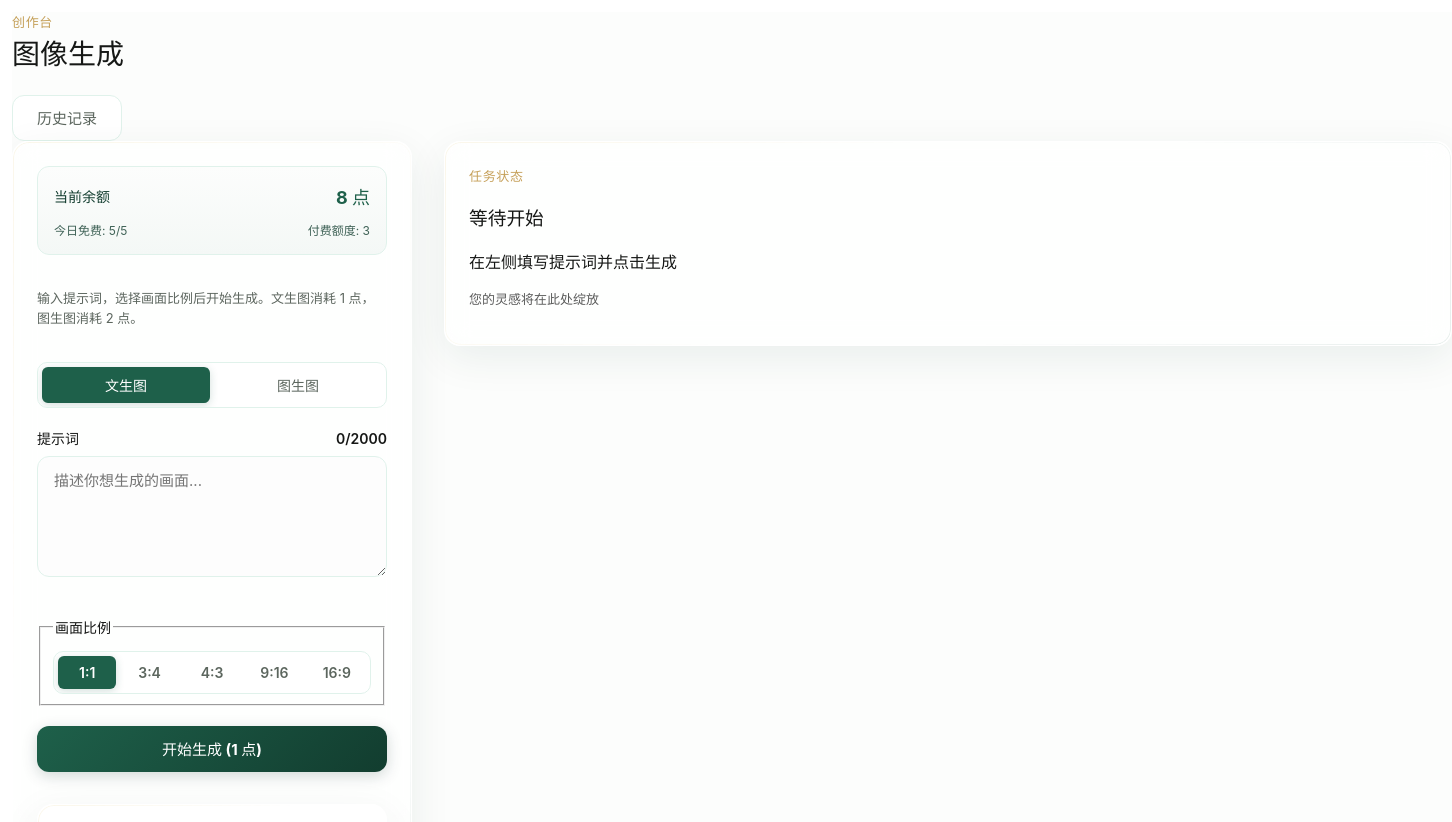
Scenario: WorkspacePage › polls active tasks every five seconds
This screenshot has width=1452, height=822.
Type "山谷" into the text box labelled "提示词" at x=212, y=517, box [37,456,387,577]
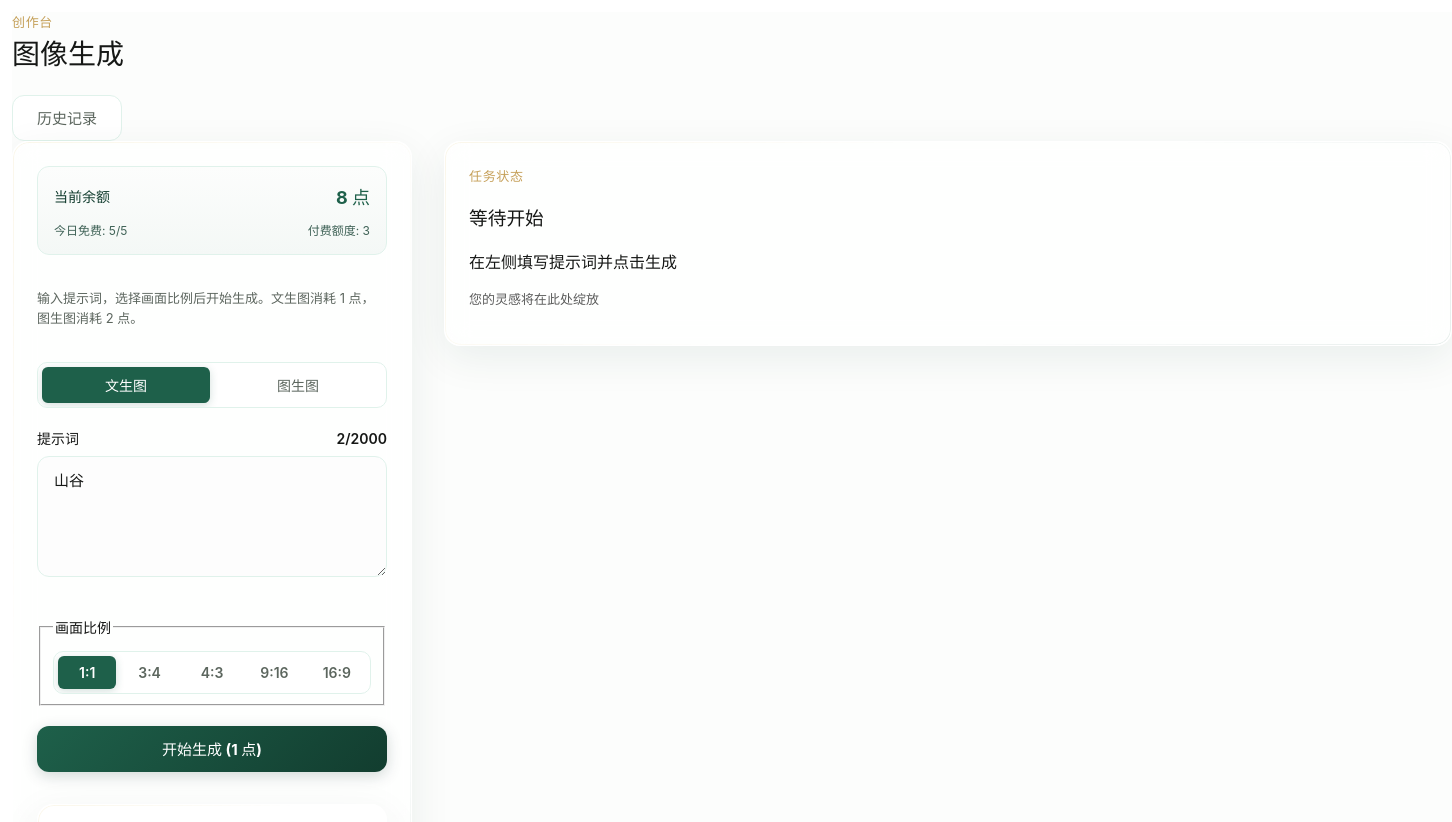
Click the button "开始生成 (1 点)" at x=212, y=749, box [37,726,387,772]
Wait 5000 ms
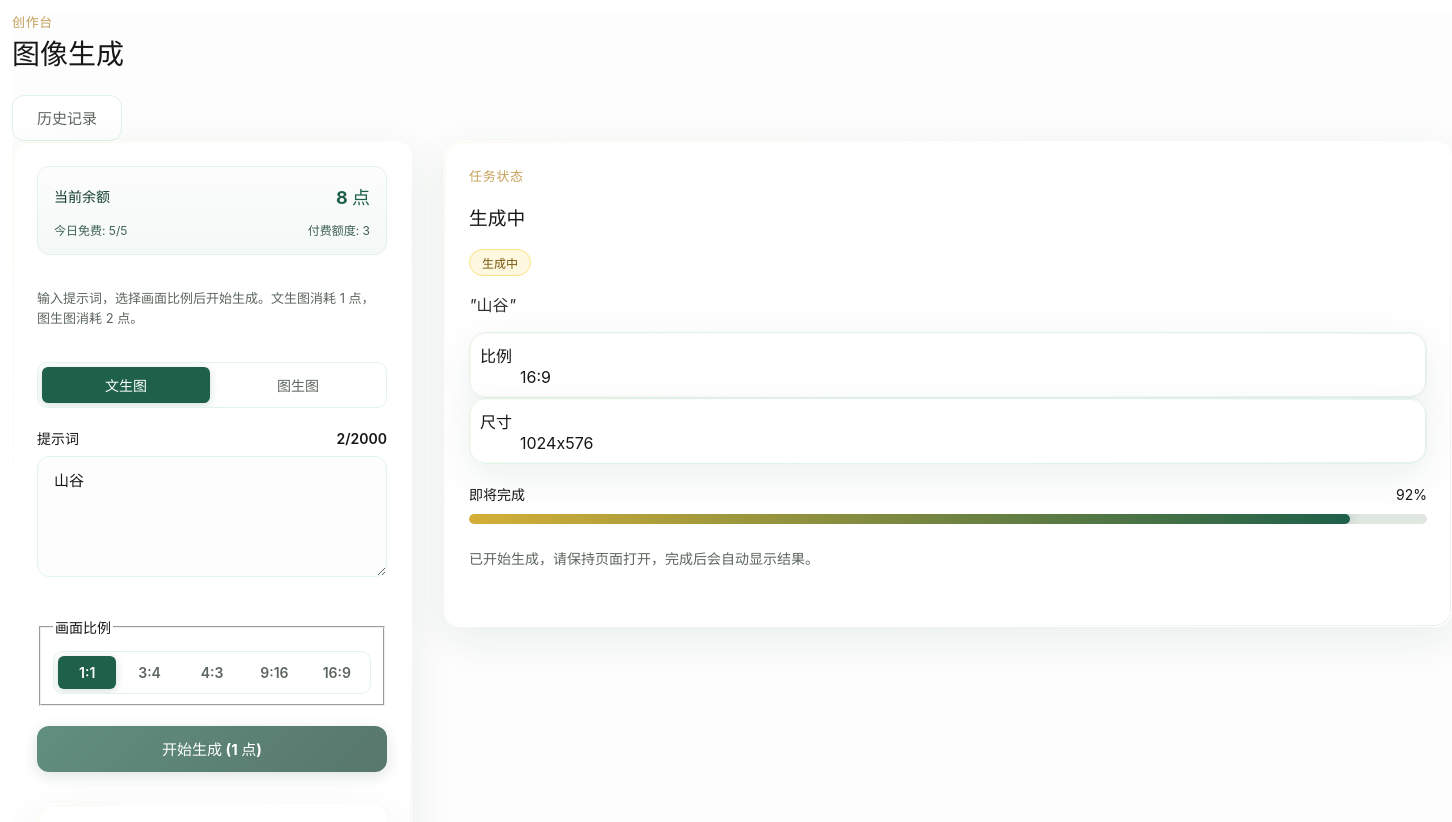
Expected: the heading "生成中" is shown, [469,207,525,230]
